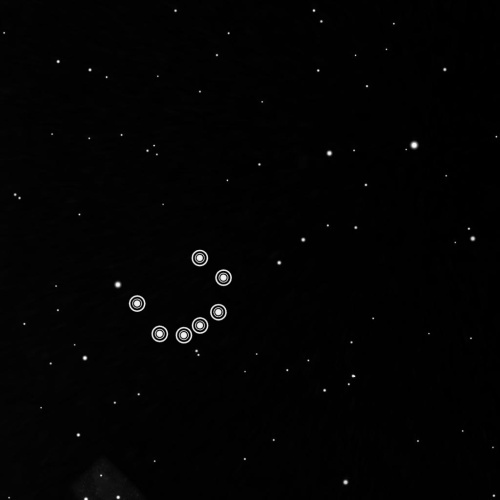corona_borealis: (123, 243, 234, 352)
